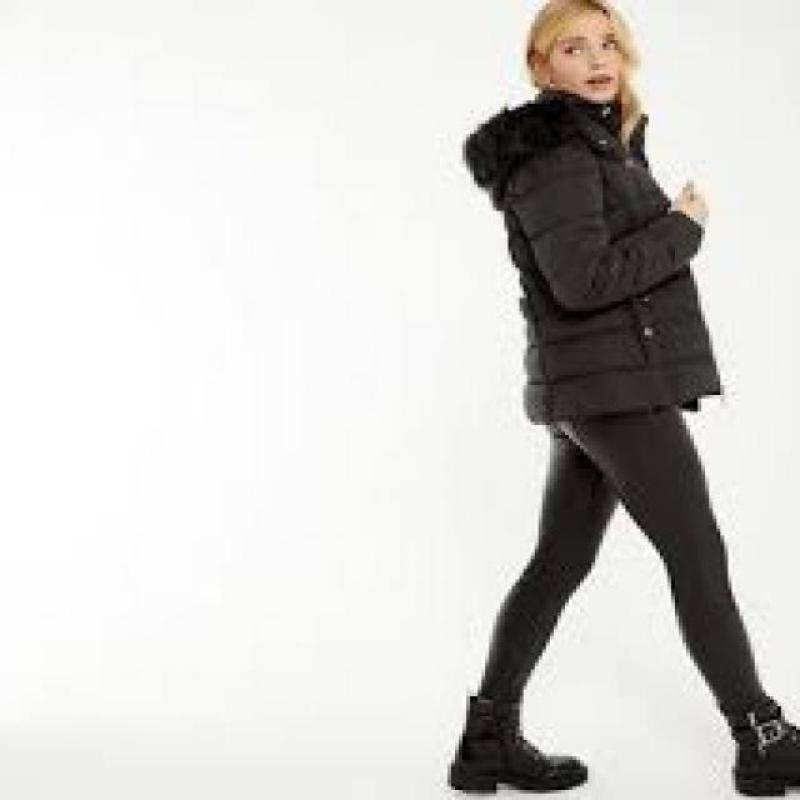coat: (459, 87, 730, 420)
trousers: (472, 401, 771, 720)
